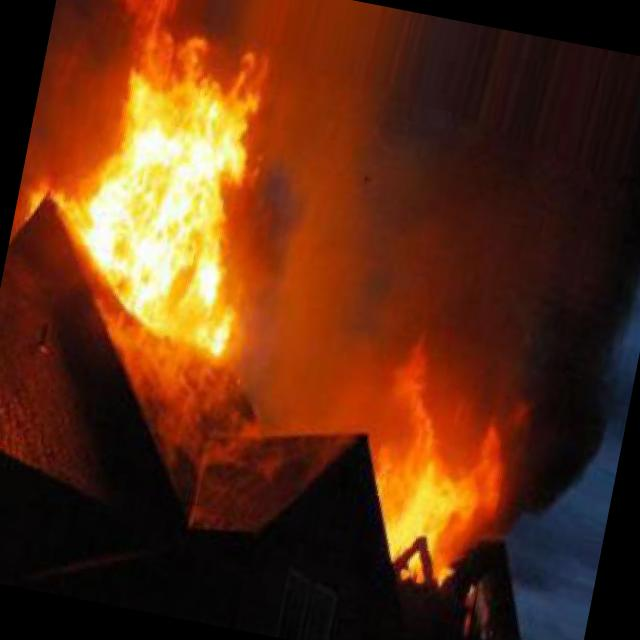fire: (66, 27, 280, 355), (345, 362, 516, 590)
